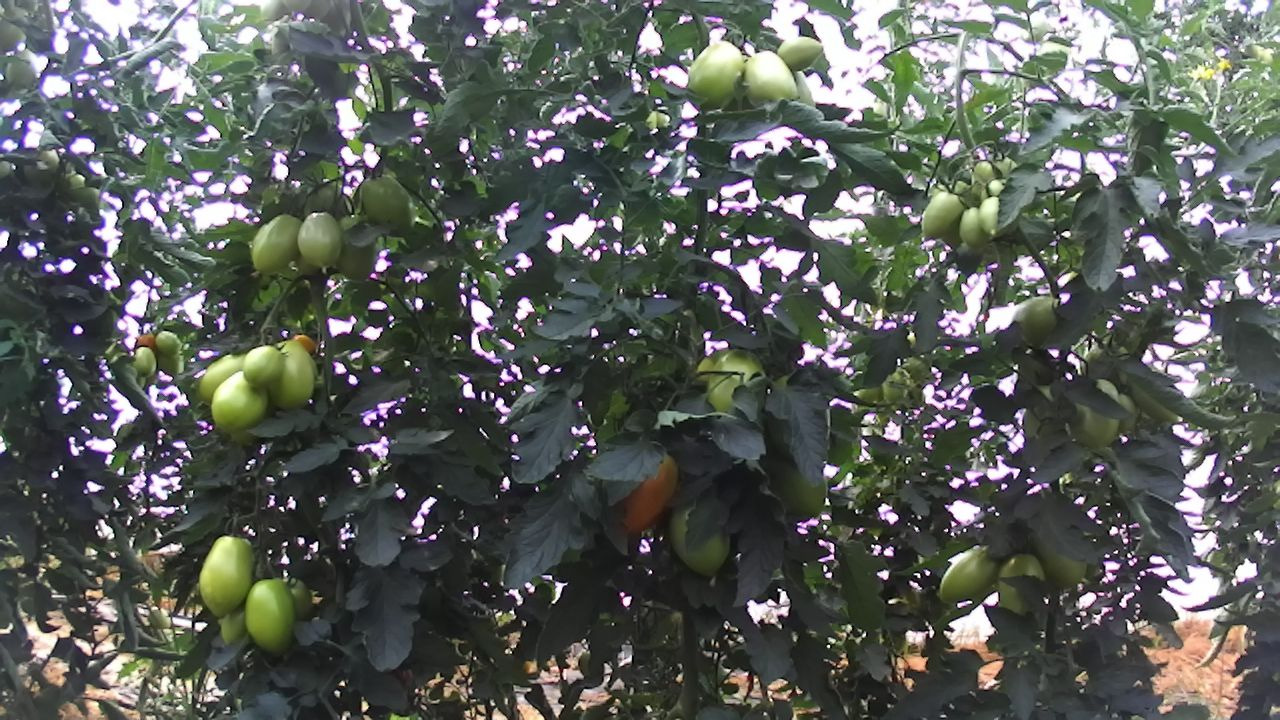tomato: (662, 490, 735, 582), (615, 446, 684, 541), (194, 532, 256, 623), (991, 542, 1055, 623), (1062, 373, 1124, 452), (241, 575, 298, 658), (934, 540, 1001, 610), (208, 366, 274, 436), (685, 35, 748, 106), (1024, 527, 1088, 594), (328, 210, 382, 282), (191, 347, 252, 409), (269, 338, 318, 412), (249, 211, 304, 276), (358, 171, 419, 228), (294, 208, 343, 272), (744, 46, 800, 102), (918, 189, 964, 239), (775, 35, 826, 75), (241, 343, 285, 388), (974, 194, 1015, 241), (956, 205, 985, 250), (132, 345, 158, 380), (153, 328, 183, 356)
